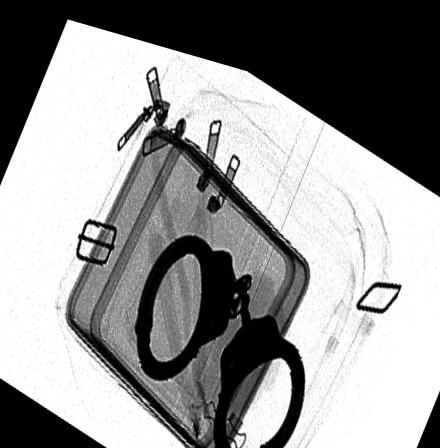HandCuffs: (131, 223, 304, 448)
